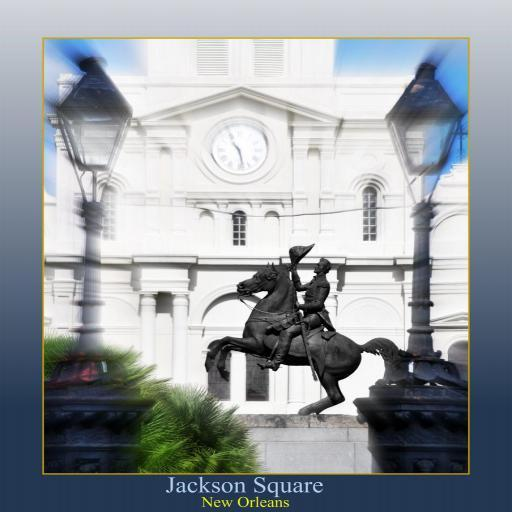horse: (206, 262, 404, 416)
